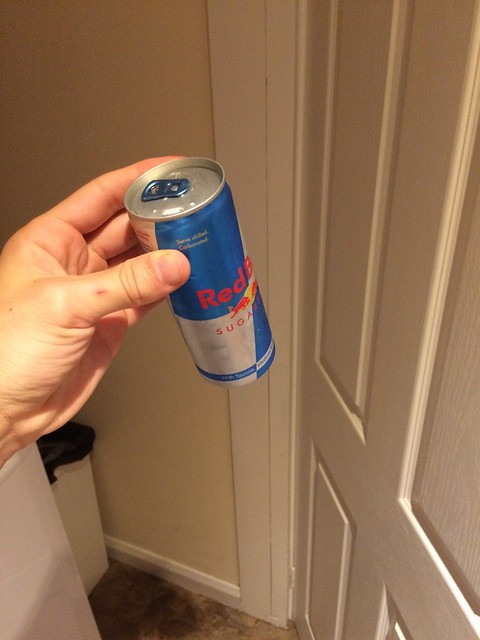can: (122, 153, 288, 389)
